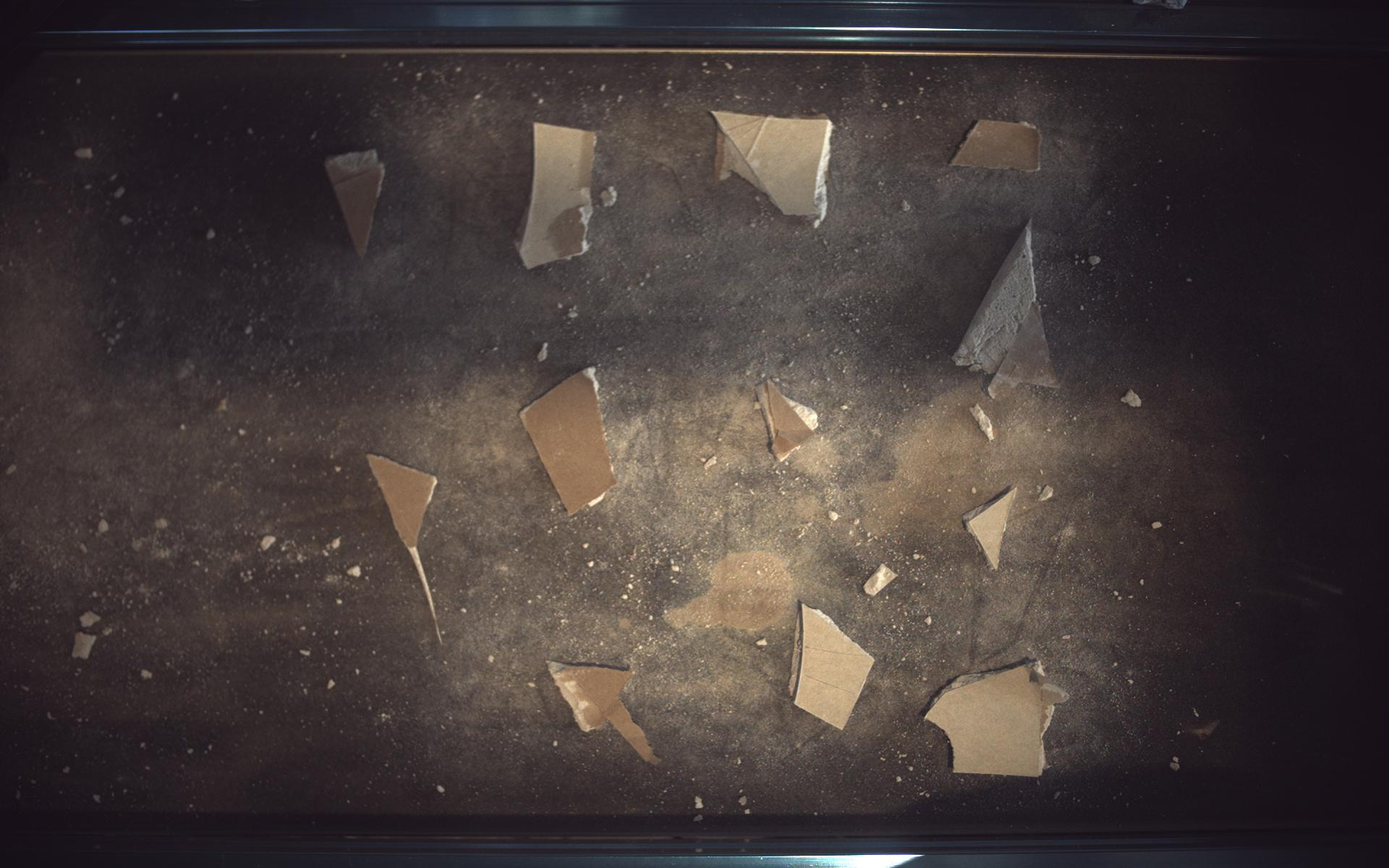gypsum_board: (955, 221, 1062, 399), (927, 662, 1071, 778), (367, 454, 443, 646), (713, 110, 835, 227), (520, 370, 617, 515), (518, 122, 597, 268), (548, 662, 659, 765), (790, 604, 876, 730), (324, 148, 385, 256), (757, 378, 819, 461), (964, 486, 1020, 570), (953, 119, 1043, 171)
